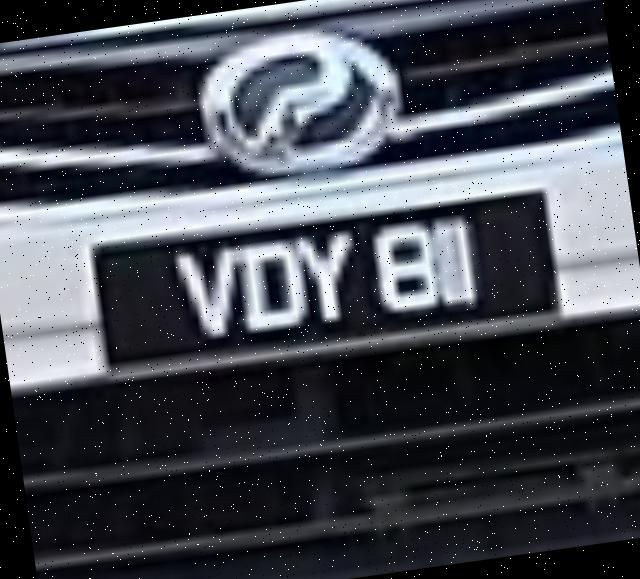License_Plate: (63, 162, 593, 400)
